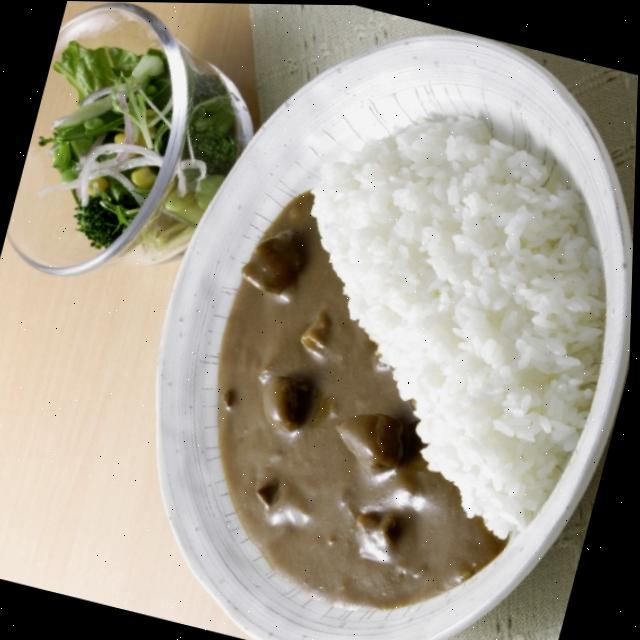牛肉菜式: (174, 51, 639, 640)
